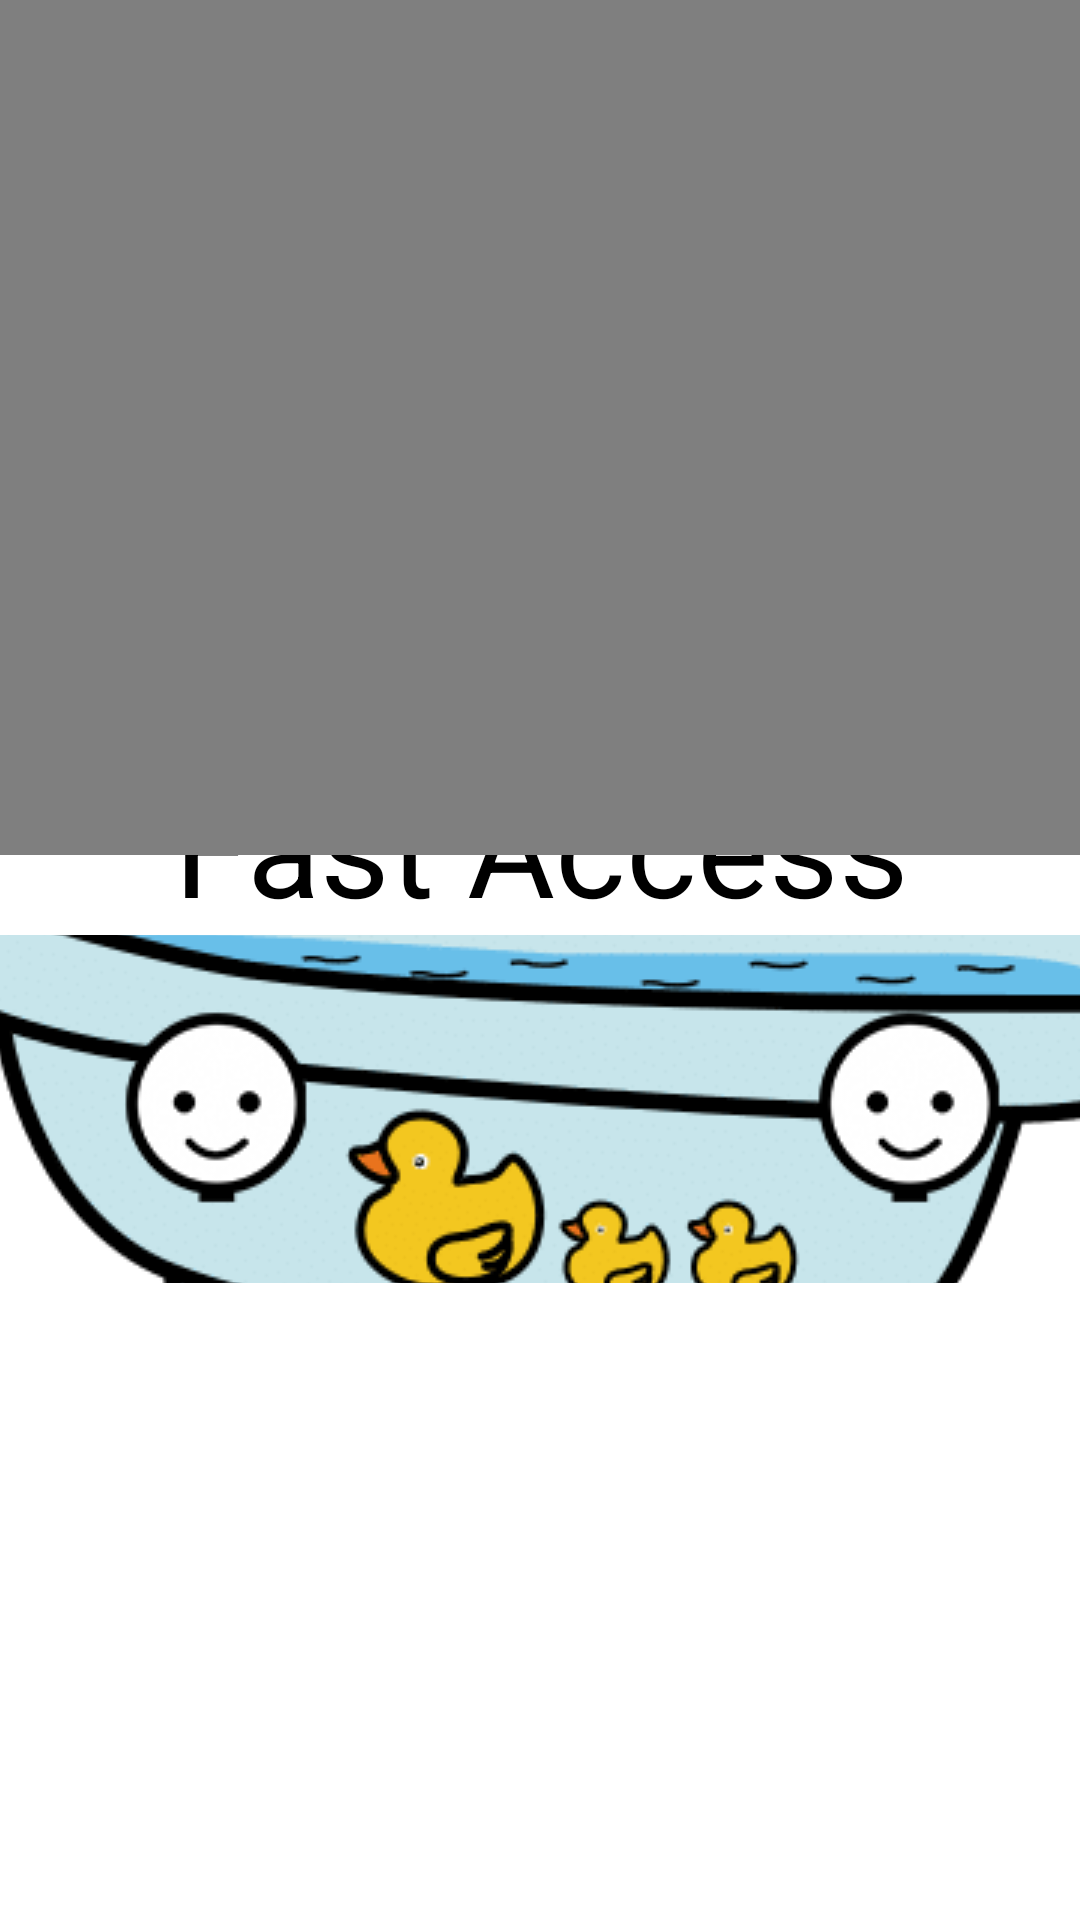

Where to tap for icons on this 1080×1920 app screen, as (x,y):
alegre: (909,1109), (216,1107)
